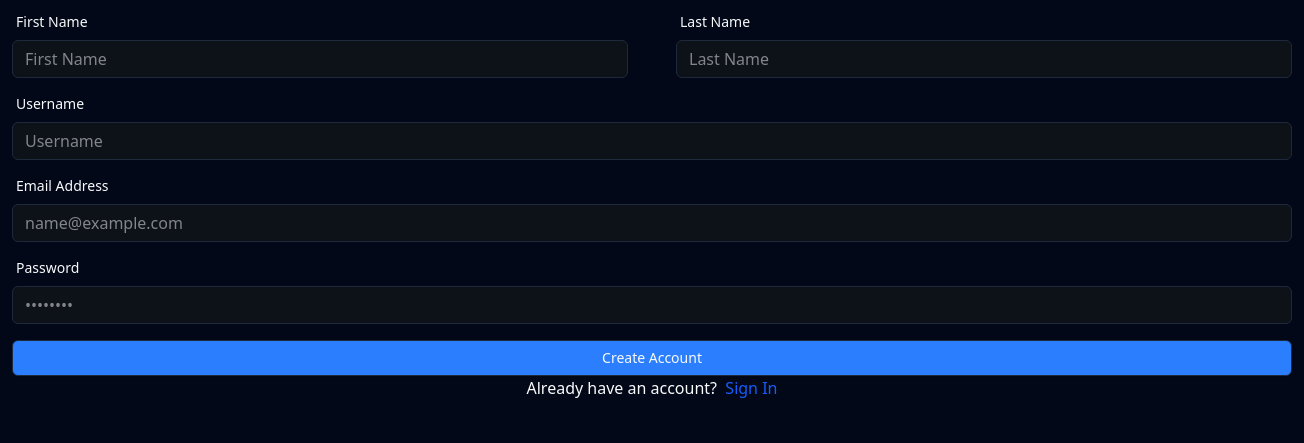
SignUpForm › Step 1: Account Creation › handles Clerk API errors on sign-up
The width and height of the screenshot is (1304, 443).
Type "John" into the field labelled "First Name" at {"x": 320, "y": 59}, box [12,40,628,78]
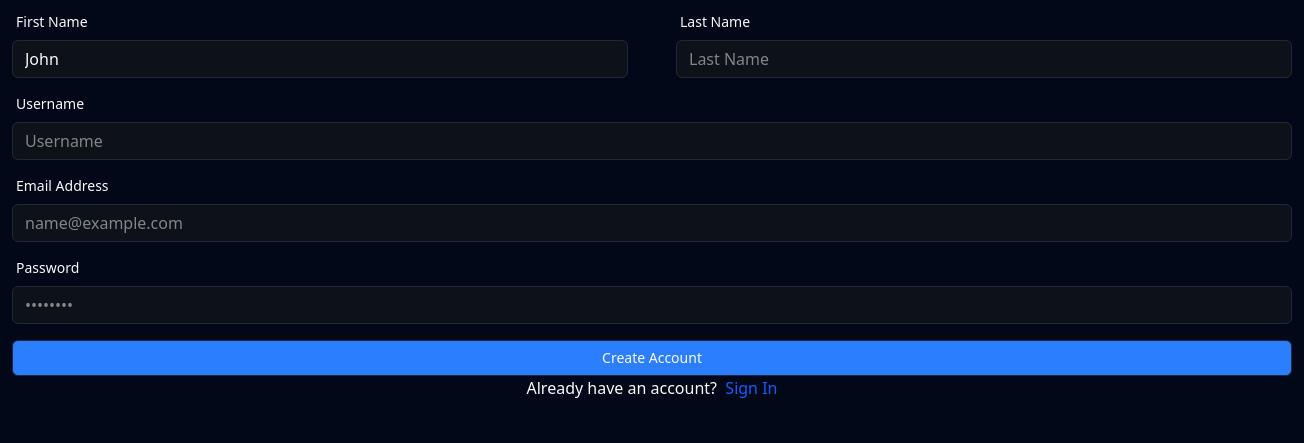
Type "Doe" into the field labelled "Last Name" at {"x": 984, "y": 59}, box [676,40,1292,78]
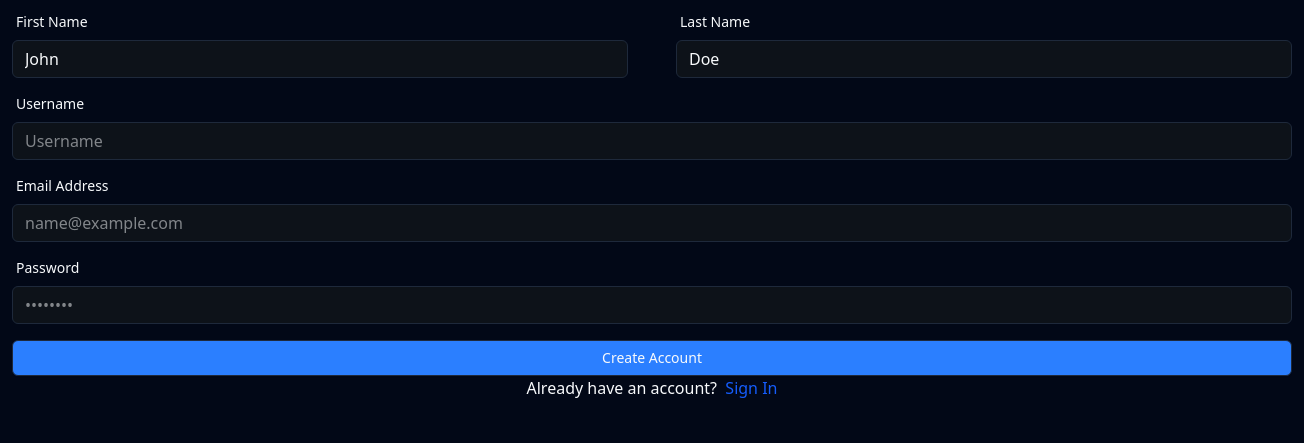
Type "johndoe" into the field labelled "Username" at {"x": 652, "y": 141}, box [12,122,1292,160]
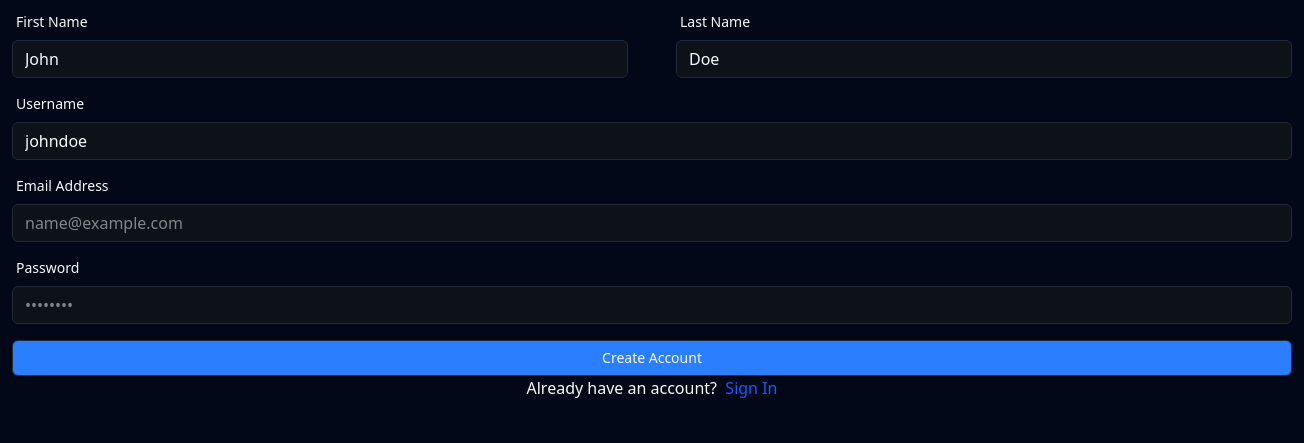
Type "john@doe.com" into the field labelled "Email Address" at {"x": 652, "y": 223}, box [12,204,1292,242]
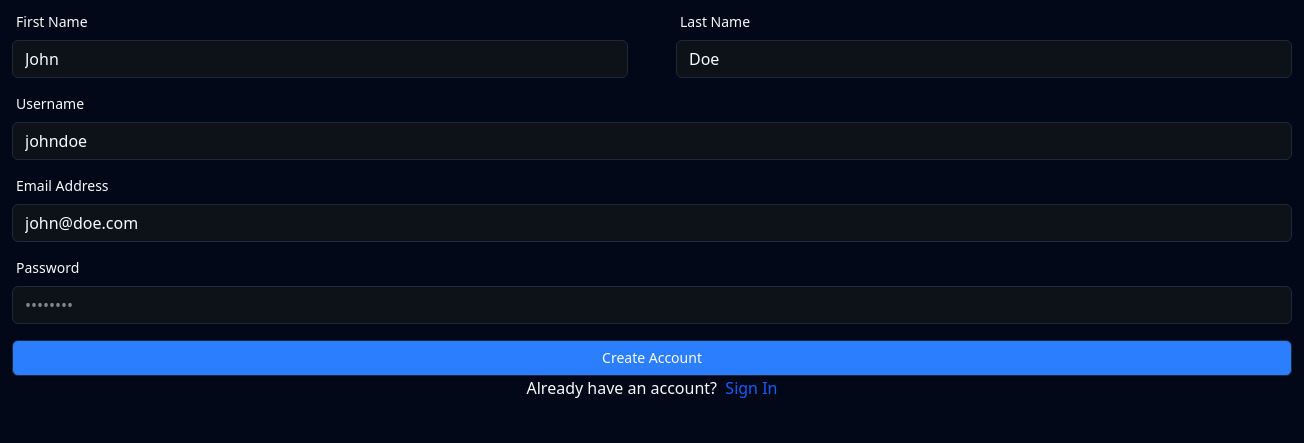
Type "StrongPassword123" into the password field labelled "Password" at {"x": 652, "y": 305}, box [12,286,1292,324]
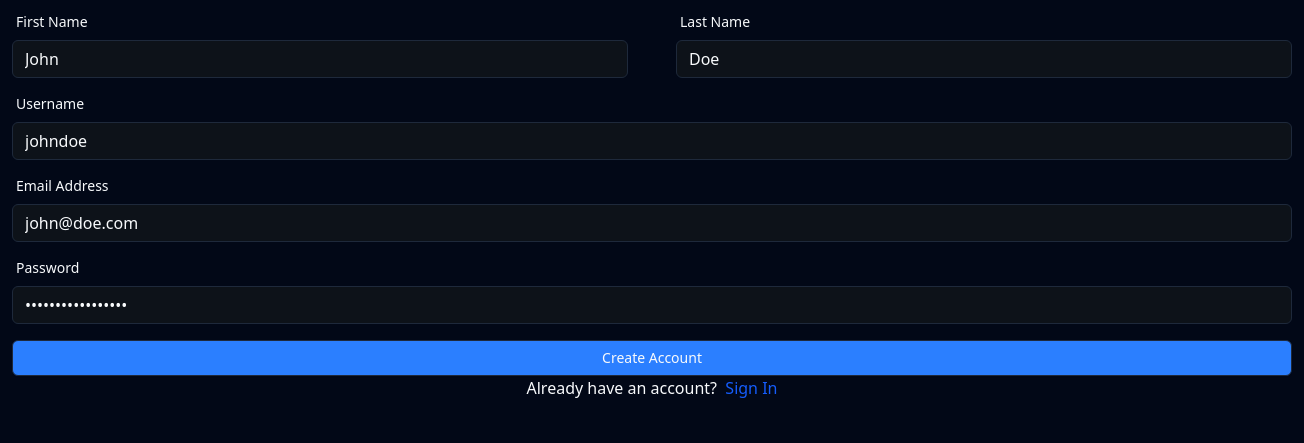
Click the button "Create Account" at {"x": 652, "y": 358}, box [12,340,1292,376]
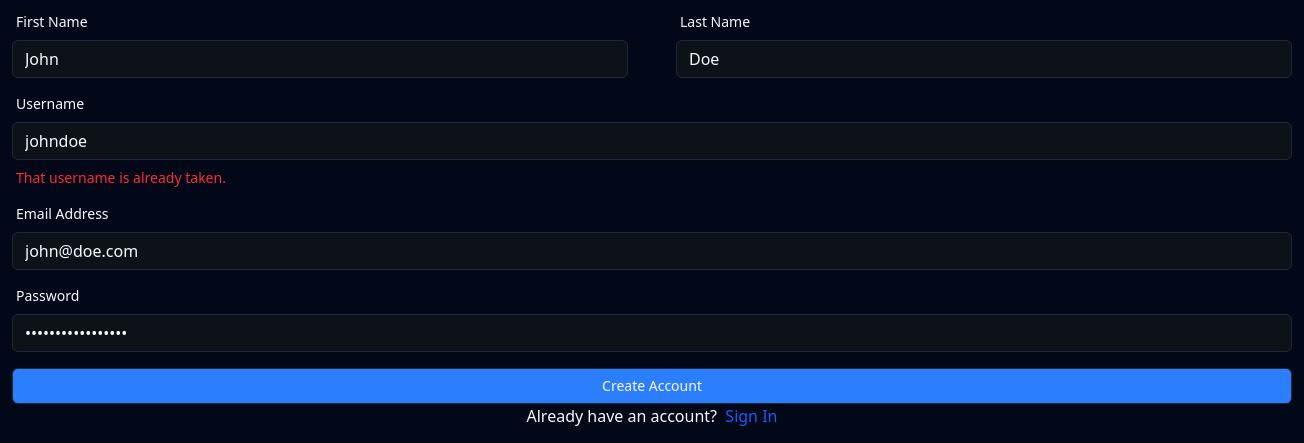
Now the text "That username is already taken." is shown, box [16,168,226,187]
